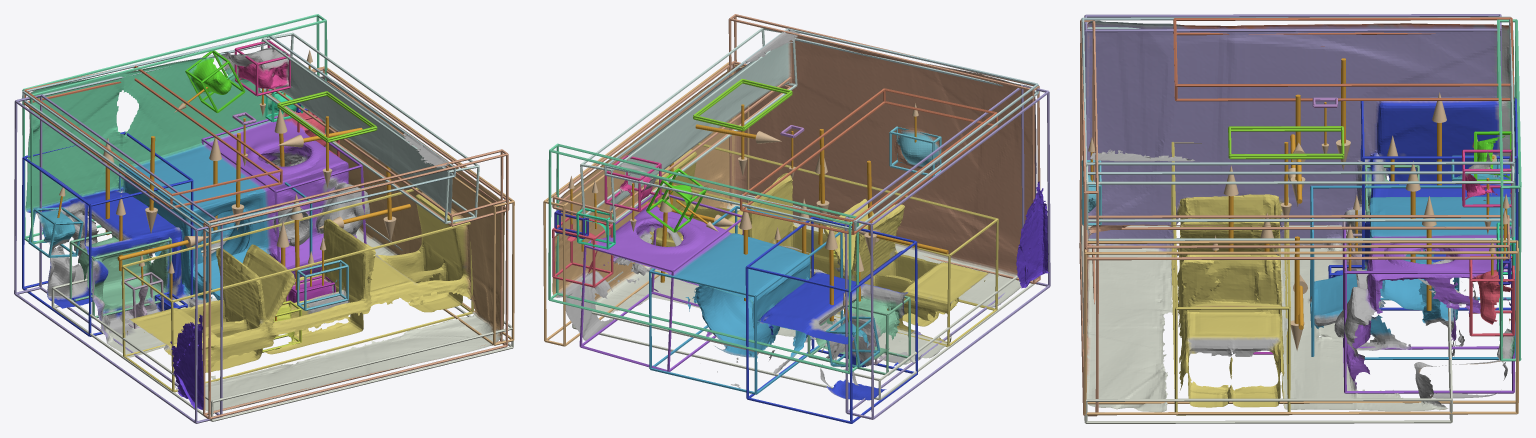
The model's file is scene_00103_02-obb.compressed.gltf.
3 renders of one model, left to right at view 1: azimuth 30°, elevation 25°; view 2: azimuth 150°, elevation 25°; view 3: azimuth 270°, elevation 25°, orthographic. The views are drawn at different scales.
Bounding box in the file's own units: 2.8 × 1.81 × 2.85.
